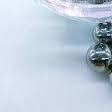ironball: (82, 44, 111, 74), (91, 19, 111, 43), (109, 0, 111, 1)
